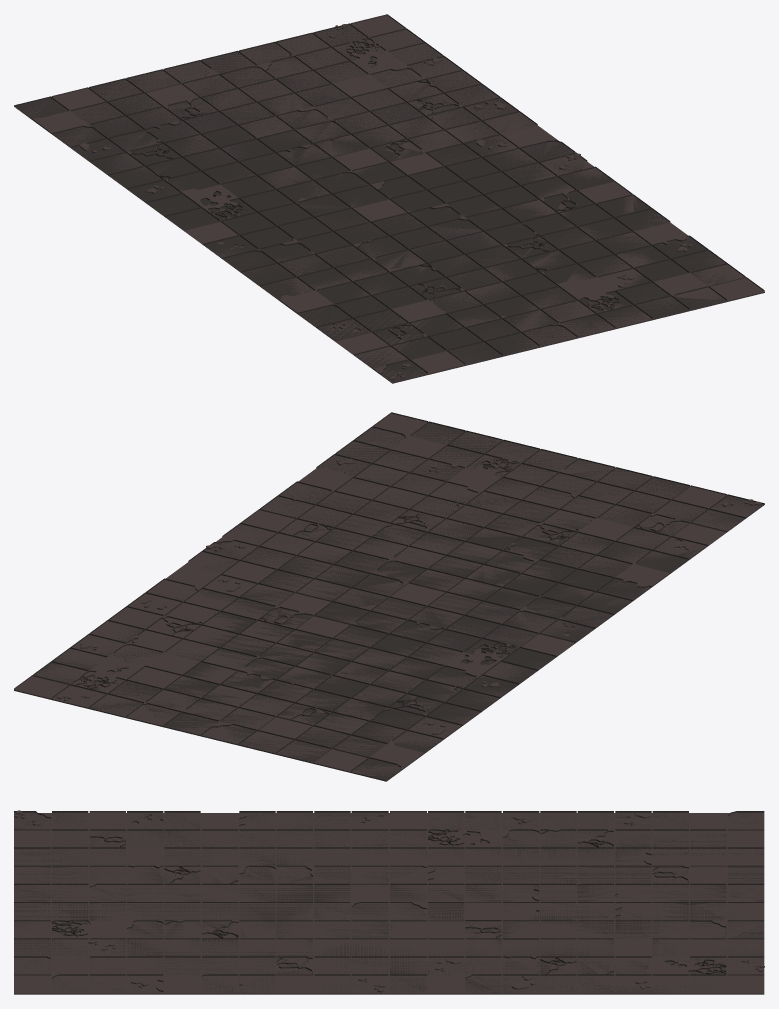
File: BattlePlane.fbx
3 views of the same model, one above another, from view 1: azimuth 30°, elevation 25°; view 2: azimuth 150°, elevation 25°; view 3: azimuth 270°, elevation 25° (orthographic).
Visible parts, largest first — view 1: StoneSlabs, Ground, StoneSlabsSmall; view 2: Ground, StoneSlabs, StoneSlabsSmall; view 3: Ground, StoneSlabs, StoneSlabsSmall.
Part boxes in pixels (box(x1,y1,x2,y2)): StoneSlabs: box(14, 14, 764, 382); Ground: box(16, 15, 764, 383); StoneSlabsSmall: box(80, 24, 692, 379); Ground: box(14, 413, 763, 781); StoneSlabs: box(14, 412, 764, 780); StoneSlabsSmall: box(56, 458, 761, 734); Ground: box(14, 813, 764, 994); StoneSlabs: box(14, 811, 764, 993); StoneSlabsSmall: box(14, 810, 764, 992).
Bounding box in the file's own units: 16.03 × 28.03 × 0.15.
